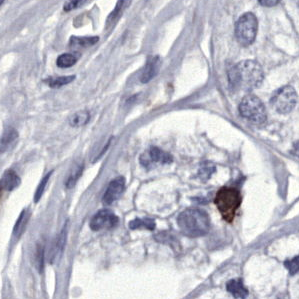Lymphocyte: (216, 184, 243, 220)
